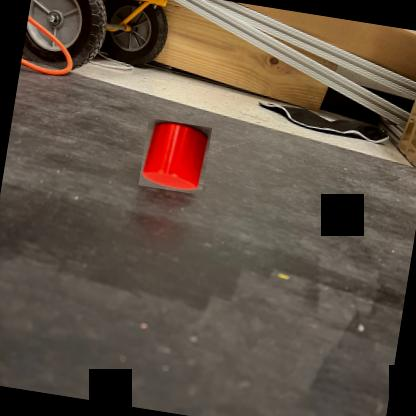red cylinder: (138, 118, 212, 194)
